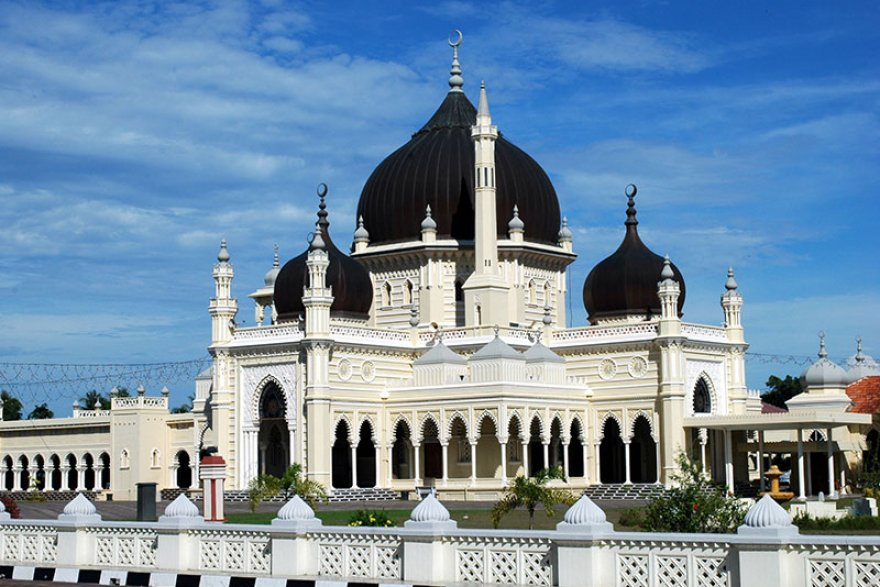Mosque: (197, 39, 752, 480)
